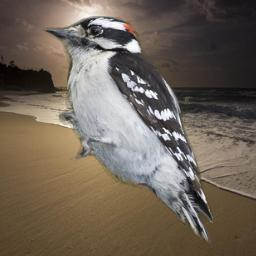Woodpecker: (43, 16, 213, 248)
